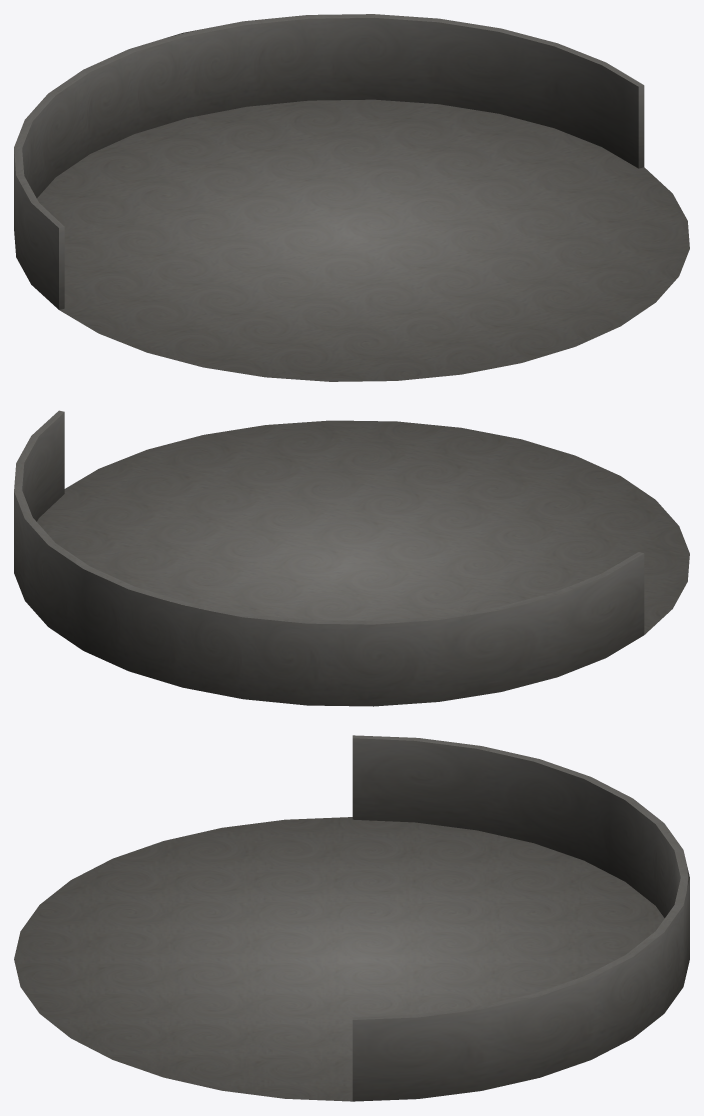
The model's file is Stage.obj.
The picture shows the model from 3 angles, top to bottom: view 1: azimuth 30°, elevation 25°; view 2: azimuth 150°, elevation 25°; view 3: azimuth 270°, elevation 25°; orthographic projection.
Parts seen in each view (by area): view 1: Regroup03, Cylinder03; view 2: Regroup03, Cylinder03; view 3: Regroup03, Cylinder03.
Part boxes in pixels (x1,y1,x2,y2): Regroup03: [37, 99, 689, 381]; Cylinder03: [14, 14, 644, 309]; Regroup03: [37, 420, 689, 634]; Cylinder03: [14, 410, 644, 706]; Regroup03: [14, 817, 664, 1101]; Cylinder03: [352, 735, 689, 1101].
Bounding box in the file's own units: 299 × 39.93 × 300.
Materials: 1 (1 with a texture image).
